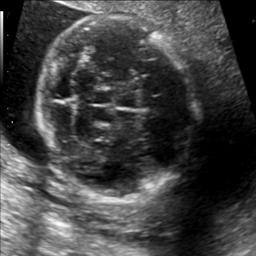normal: (34, 11, 202, 201)
